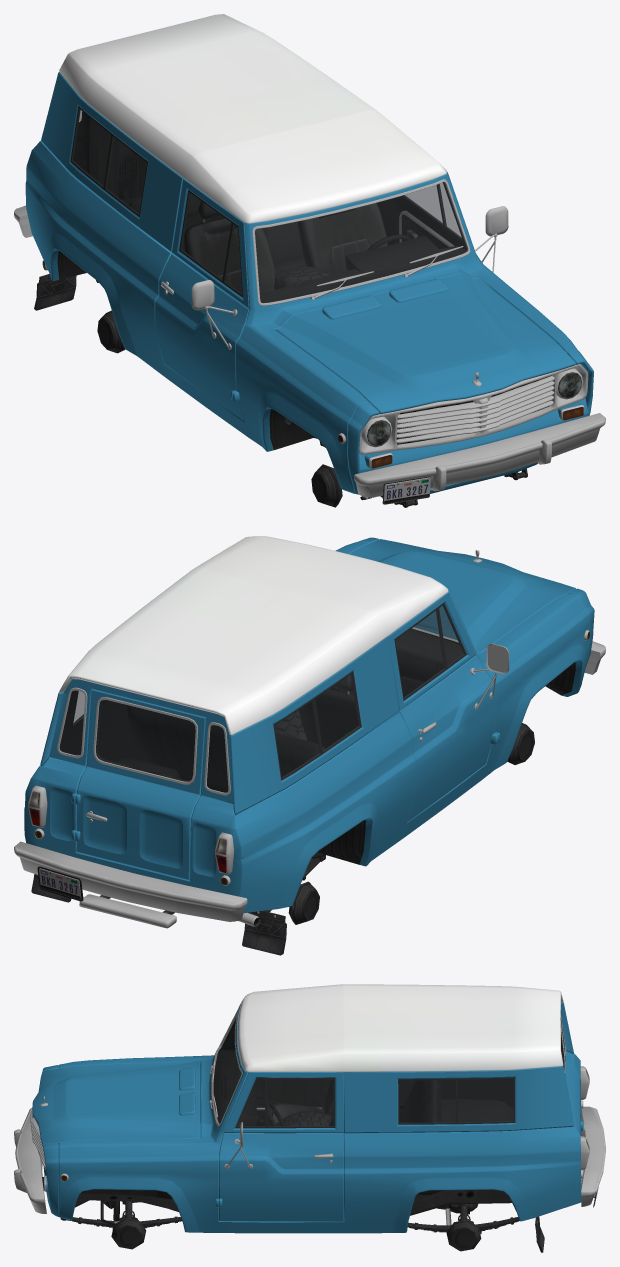
The model's file is offroad.glb.
3 views of the same model, one above another, from view 1: azimuth 30°, elevation 25°; view 2: azimuth 150°, elevation 25°; view 3: azimuth 270°, elevation 25° (orthographic). The views are drawn at different scales.
Parts seen in each view (by area): view 1: body, hood, glass_front, door_FR, bumper_F, glass_RR, trunk, glass_FR, mirror_R, mirror_L; view 2: body, trunk, door_FR, hood, bumper_R, glass_RR, glass_rear, glass_FR, glass_RL, mirror_R; view 3: body, door_FL, hood, glass_RL, glass_FL, bumper_F, bumper_R, glass_front, trunk, tire_FL.
Part boxes in pixels (x1=…): body: x1=25, y1=14, x2=593, y2=507; hood: x1=275, y1=273, x2=575, y2=414; glass_front: x1=255, y1=182, x2=467, y2=302; door_FR: x1=155, y1=179, x2=269, y2=421; bumper_F: x1=354, y1=413, x2=605, y2=504; glass_RR: x1=71, y1=108, x2=241, y2=294; trunk: x1=32, y1=118, x2=146, y2=200; glass_FR: x1=180, y1=192, x2=231, y2=280; mirror_R: x1=191, y1=280, x2=233, y2=347; mirror_L: x1=475, y1=206, x2=508, y2=272; body: x1=25, y1=536, x2=594, y2=955; trunk: x1=24, y1=697, x2=242, y2=896; door_FR: x1=389, y1=591, x2=499, y2=821; hood: x1=349, y1=539, x2=575, y2=653; bumper_R: x1=14, y1=841, x2=247, y2=921; glass_RR: x1=207, y1=605, x2=464, y2=792; glass_rear: x1=96, y1=700, x2=195, y2=781; glass_FR: x1=395, y1=610, x2=445, y2=698; glass_RL: x1=60, y1=691, x2=84, y2=754; mirror_R: x1=474, y1=643, x2=509, y2=707; body: x1=30, y1=984, x2=595, y2=1252; door_FL: x1=216, y1=1071, x2=343, y2=1222; hood: x1=32, y1=1061, x2=200, y2=1145; glass_RL: x1=237, y1=1079, x2=513, y2=1126; glass_FL: x1=267, y1=1079, x2=333, y2=1126; bumper_F: x1=14, y1=1108, x2=46, y2=1213; bumper_R: x1=581, y1=1106, x2=605, y2=1207; glass_front: x1=212, y1=1008, x2=240, y2=1124; trunk: x1=560, y1=1025, x2=584, y2=1202; tire_FL: x1=276, y1=1111, x2=332, y2=1128.
Size of the model in its own units: 2.22 by 1.71 by 4.6.
Materials: 9 (7 with a texture image).
